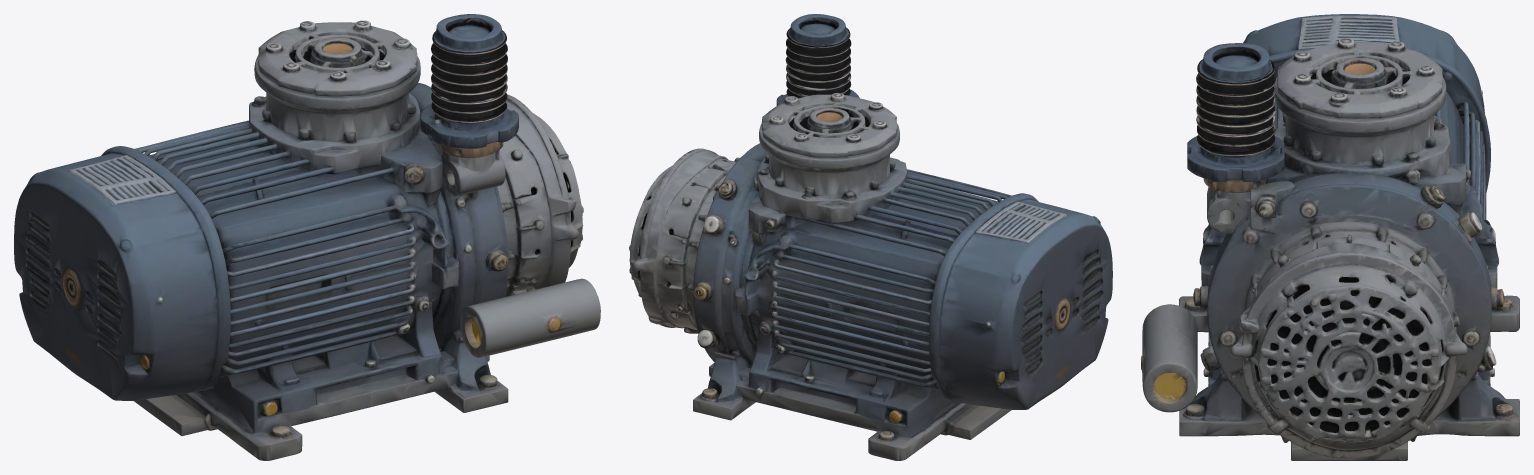
File: motor_compressor.glb
3 renders of one model, left to right at view 1: azimuth 30°, elevation 25°; view 2: azimuth 150°, elevation 25°; view 3: azimuth 270°, elevation 25°, orthographic. The views are drawn at different scales.
Visible parts, largest first — view 1: aiprintgen_node_83f90563-4cd5-4307-8057-0cab7a5a6b7f; view 2: aiprintgen_node_83f90563-4cd5-4307-8057-0cab7a5a6b7f; view 3: aiprintgen_node_83f90563-4cd5-4307-8057-0cab7a5a6b7f.
Part boxes in pixels (x1,y1,x2,y2): aiprintgen_node_83f90563-4cd5-4307-8057-0cab7a5a6b7f: (14,14,600,460); aiprintgen_node_83f90563-4cd5-4307-8057-0cab7a5a6b7f: (629,14,1112,460); aiprintgen_node_83f90563-4cd5-4307-8057-0cab7a5a6b7f: (1141,14,1519,460).
Size of the model in its own units: 0.9998 by 0.7361 by 0.6632.
Materials: 1 (1 with a texture image).
